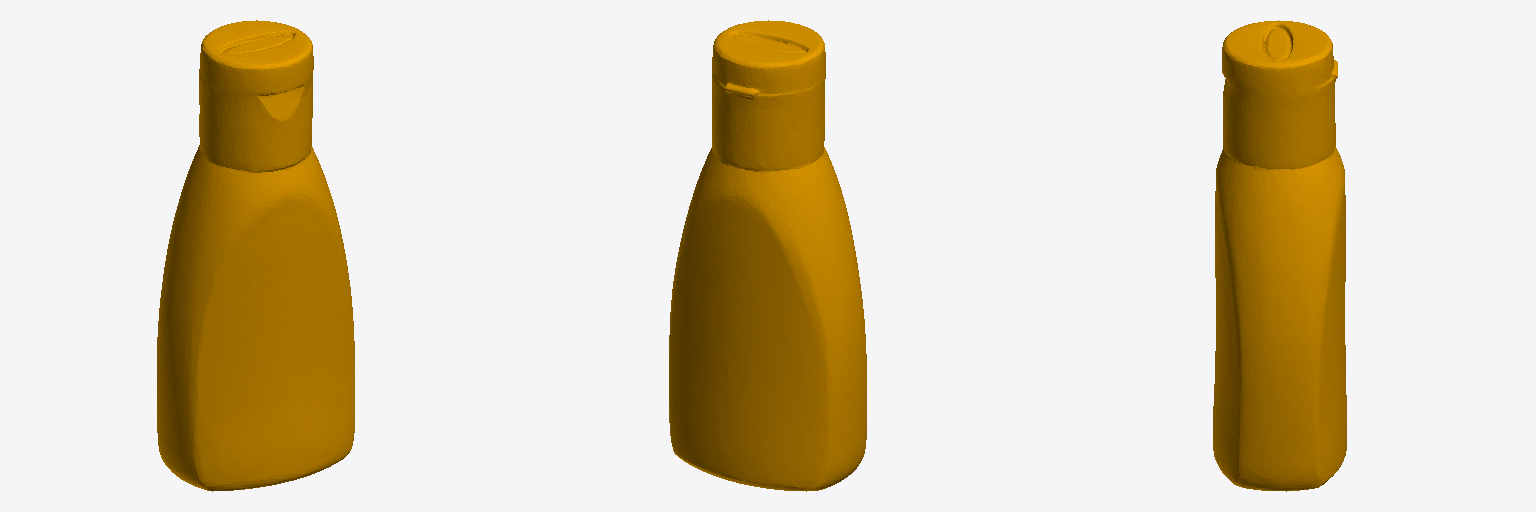
robot.urdf — converted_from_mjcf:
<?xml version="1.0" ?>
<robot name="converted_from_mjcf">
  <link name="bbq_sauce">
    <visual>
      <geometry>
          <mesh filename="meshes/bbq_sauce_rescale.obj" />
      </geometry>
    </visual>
    <collision>
      <geometry>
          <mesh filename="meshes/bbq_sauce_rescale.obj" />
      </geometry>
    </collision>
  </link>
</robot>

--- Facts derived from the render (not from the file) ---
Views: 3 orthographic renders of the robot side by side, from view 1: azimuth 30°, elevation 25°; view 2: azimuth 150°, elevation 25°; view 3: azimuth 270°, elevation 25°.
Model converted_from_mjcf with 1 links and 0 joints (none), rooted at bbq_sauce, posed every joint at zero.
Visible links, largest first — view 1: bbq_sauce; view 2: bbq_sauce; view 3: bbq_sauce.
Boxes of the visible links, x1,y1,x2,y2 form: bbq_sauce: [157, 20, 354, 491]; bbq_sauce: [669, 20, 866, 491]; bbq_sauce: [1213, 20, 1346, 491].
Bounding box of the posed robot: 0.0498 × 0.0335 × 0.1142 m (x, y, z).
1 mesh visuals loaded from 1 distinct referenced files (1 OBJ).